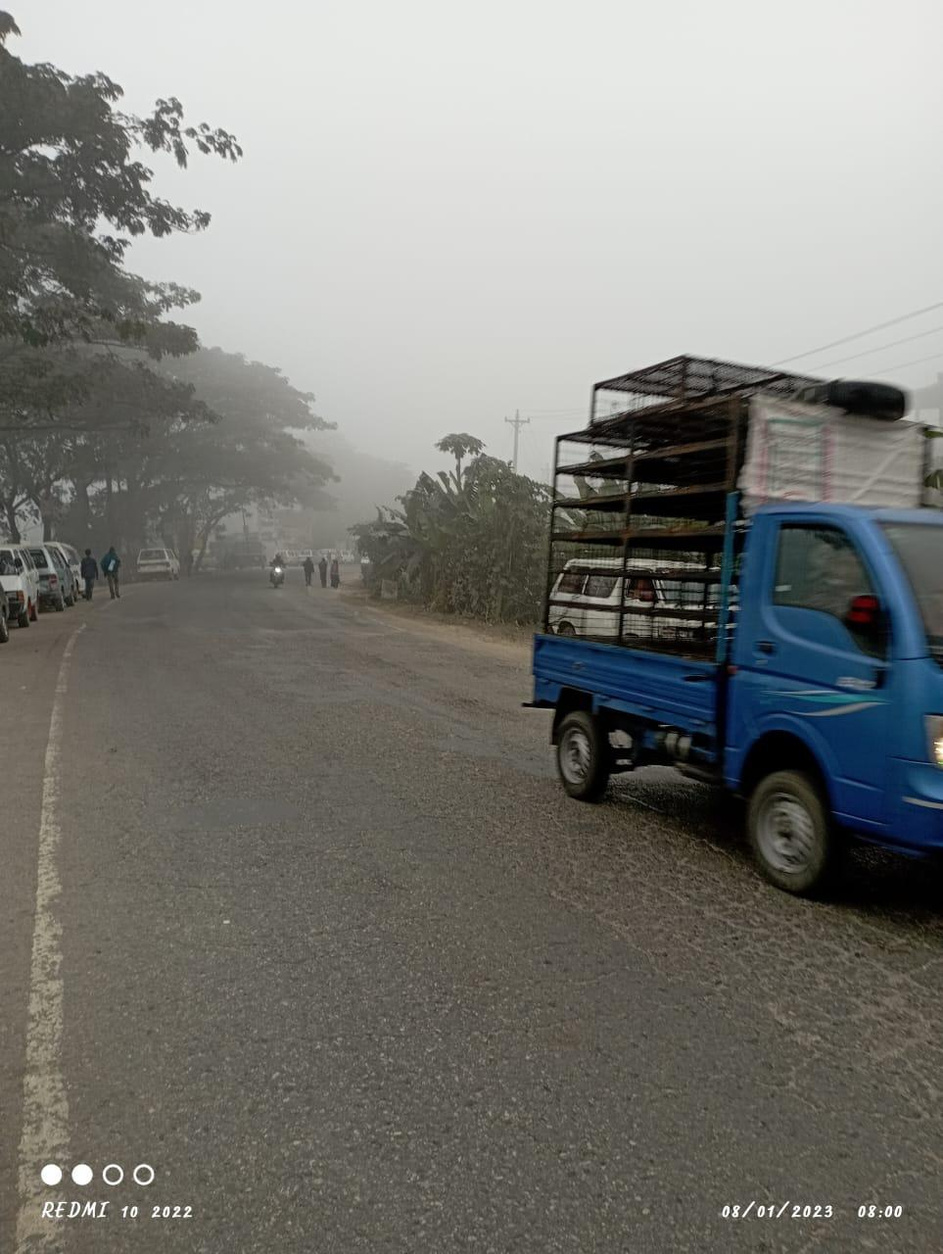Bike: (263, 554, 294, 589)
Car: (134, 537, 181, 584)
Truck: (539, 341, 943, 885)
